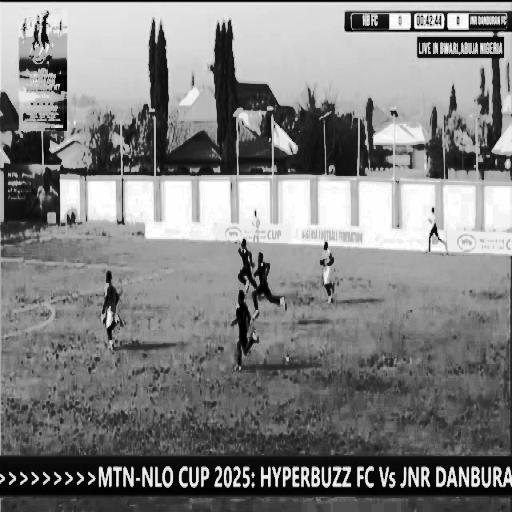ball: (96, 305, 106, 325)
referee: (424, 200, 446, 253)
team1: (104, 250, 122, 348), (321, 236, 335, 301)
team2: (255, 246, 285, 315), (235, 286, 254, 368), (239, 232, 258, 294)
